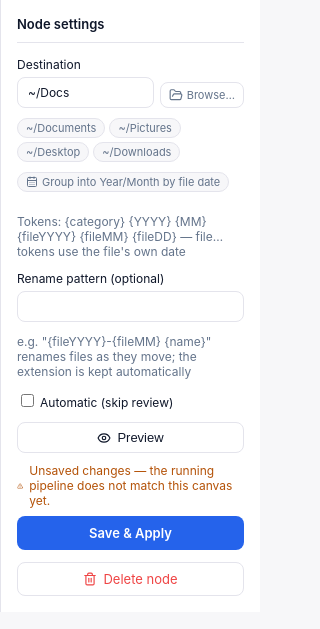
Scenario: ConfigPanel › shows the unsaved-changes nudge until Save & Apply succeeds
Check: the text "Unsaved changes" is shown, box [29,463,232,508]
Click the button "Save & Apply" at (130, 533), box [17,516,244,550]
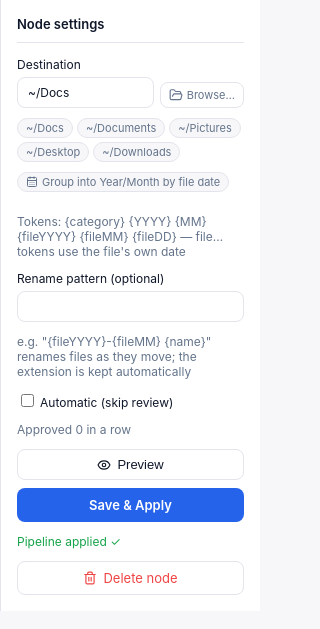
Check: the text "Pipeline applied ✓" is shown, box [17,534,121,549]
Check: the text "Unsaved changes" is gone
